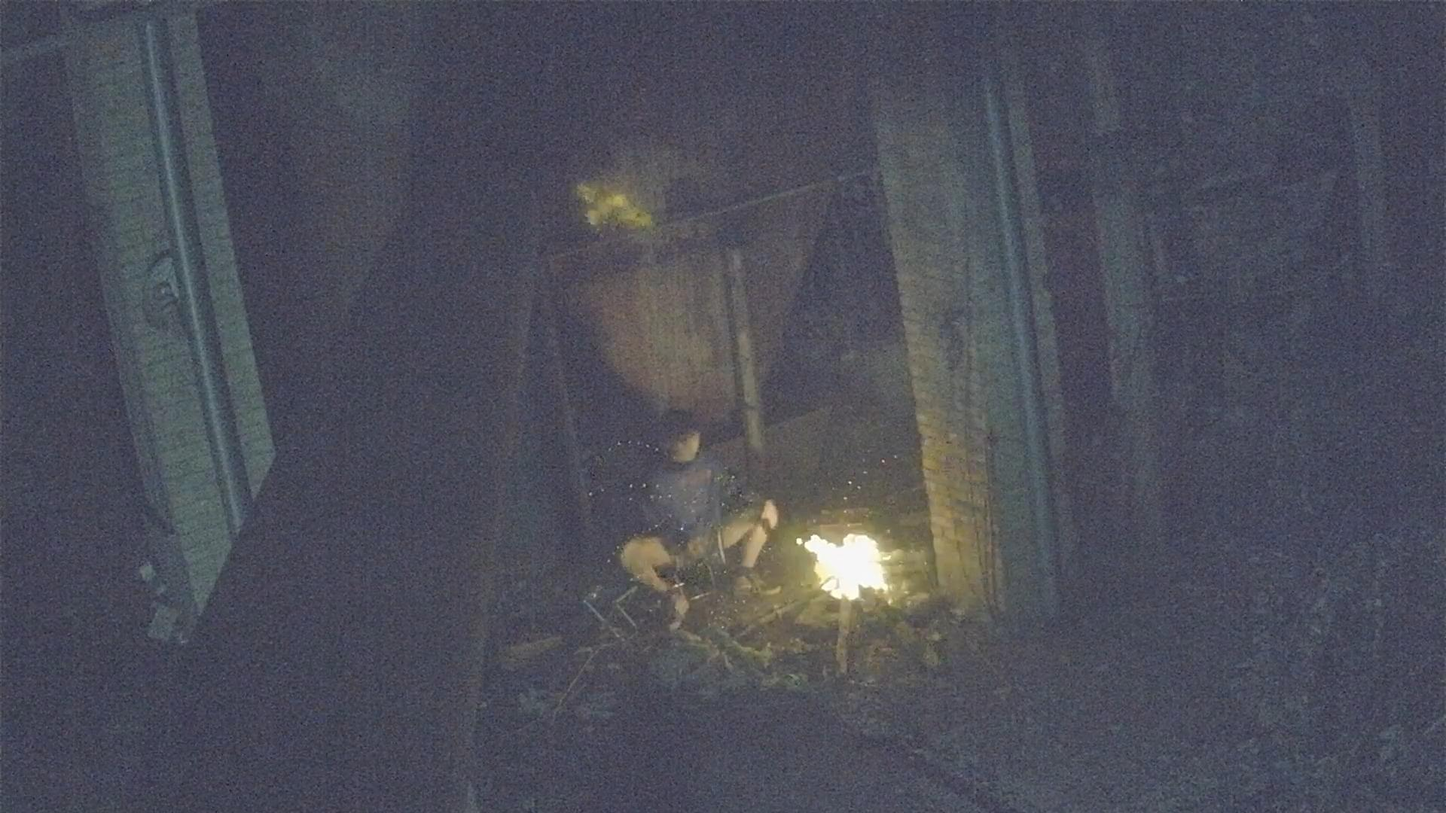fire: (803, 534, 887, 601)
